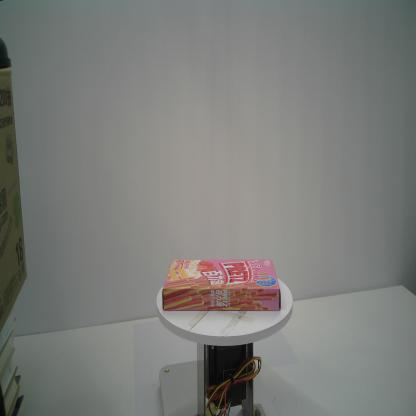Dessert: (161, 258, 282, 313)
